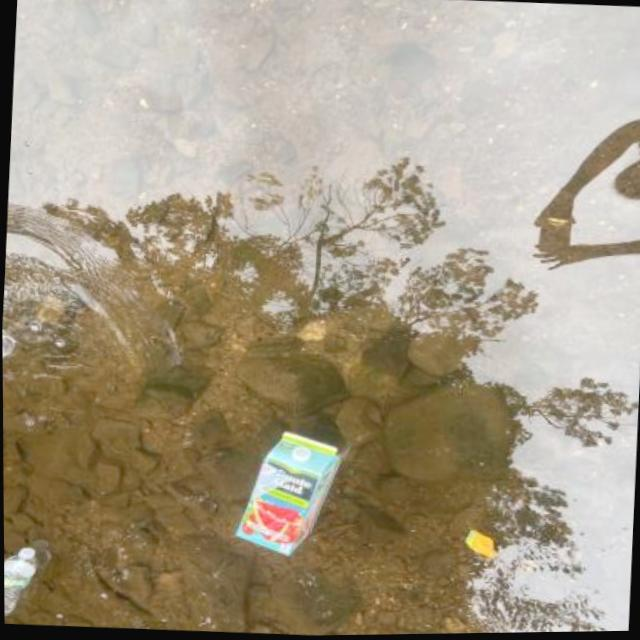Cardboard: (227, 420, 352, 565)
Plastic: (3, 538, 44, 625)
